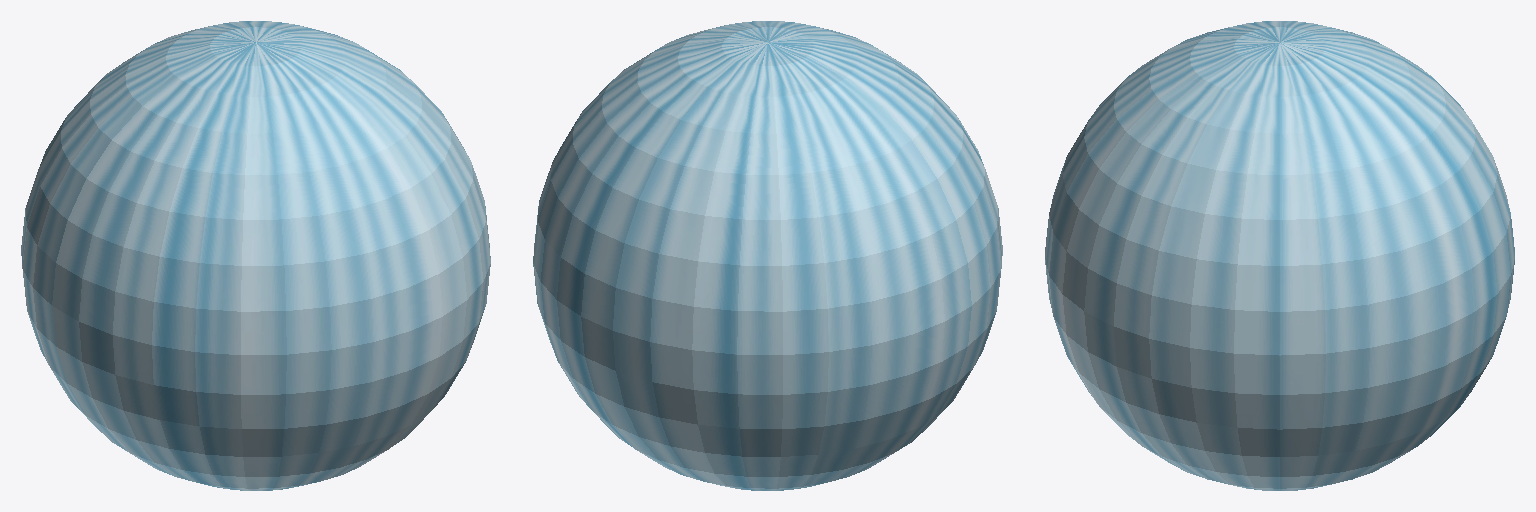
3 renders of one model, left to right at view 1: azimuth 30°, elevation 25°; view 2: azimuth 150°, elevation 25°; view 3: azimuth 270°, elevation 25°, orthographic.
Visible parts, largest first — view 1: Sphere23; view 2: Sphere23; view 3: Sphere23.
Part boxes in pixels (left/top/right/bottom): Sphere23: left=21, top=21, right=490, bottom=490; Sphere23: left=533, top=21, right=1002, bottom=490; Sphere23: left=1045, top=21, right=1514, bottom=490.
Bounding box in the file's own units: 2 × 2 × 2.
Materials: 1 (1 with a texture image).